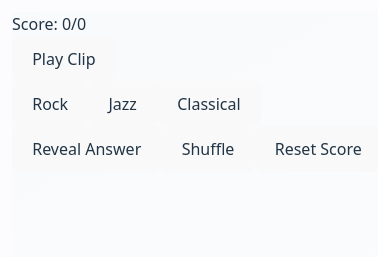
Test: GenreQuiz › resets score
Click the button "Rock".
click(50, 104)  # box x1=12 y1=81 x2=88 y2=126
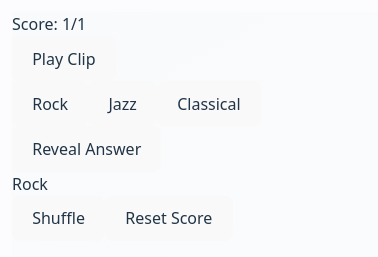
Expected: the text with test id "score" shows "1/1", x1=12 y1=13 x2=86 y2=35
Click the button "Reset Score".
click(169, 218)  # box x1=105 y1=196 x2=232 y2=241
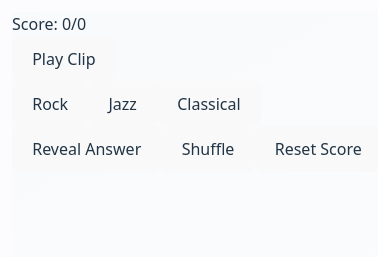
Expected: the text with test id "score" shows "0/0", x1=12 y1=13 x2=86 y2=35
